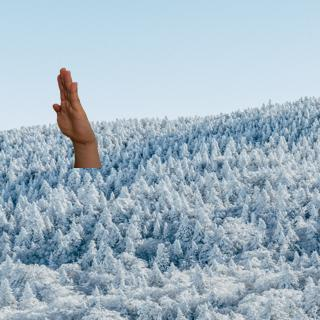RIGHT: (48, 65, 103, 148)
